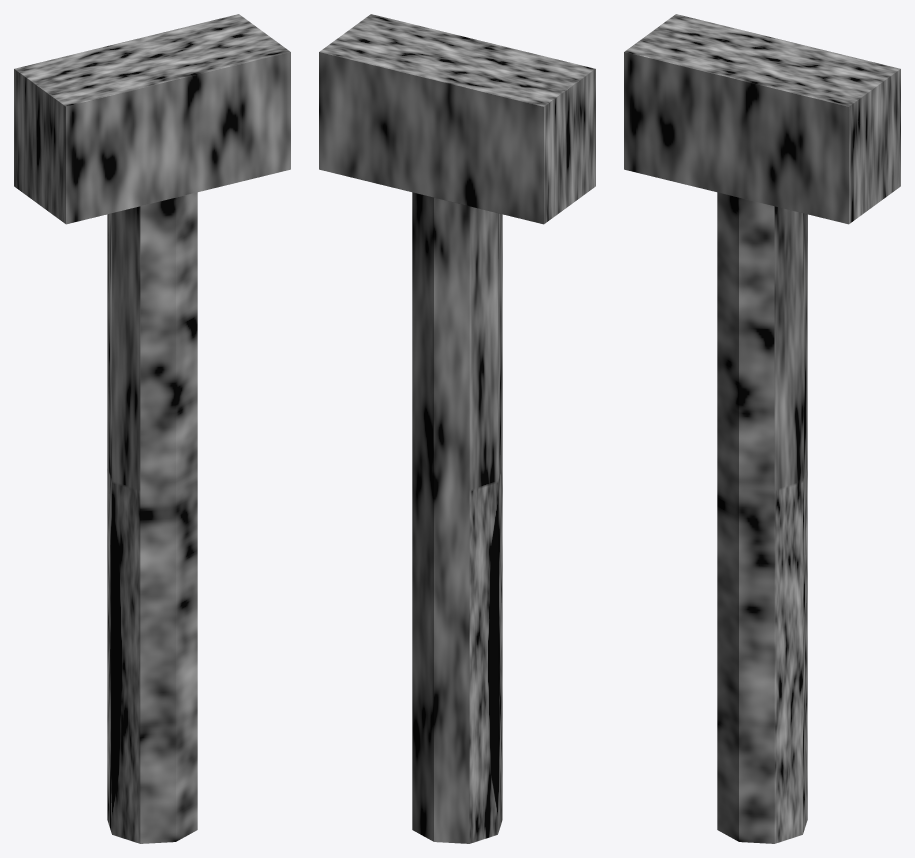
Rendered from hammer.glb.
The picture shows the model from 3 angles, left to right: view 1: azimuth 30°, elevation 25°; view 2: azimuth 150°, elevation 25°; view 3: azimuth 330°, elevation 25°; orthographic projection.
Visible parts, largest first — view 1: hammer; view 2: hammer; view 3: hammer.
Boxes of the visible parts, x1=… form: hammer: x1=14, y1=14, x2=290, y2=843; hammer: x1=319, y1=14, x2=595, y2=843; hammer: x1=624, y1=14, x2=900, y2=843.
Bounding box in the file's own units: 0.1 × 0.325 × 0.04.
1 material, 1 textured.
